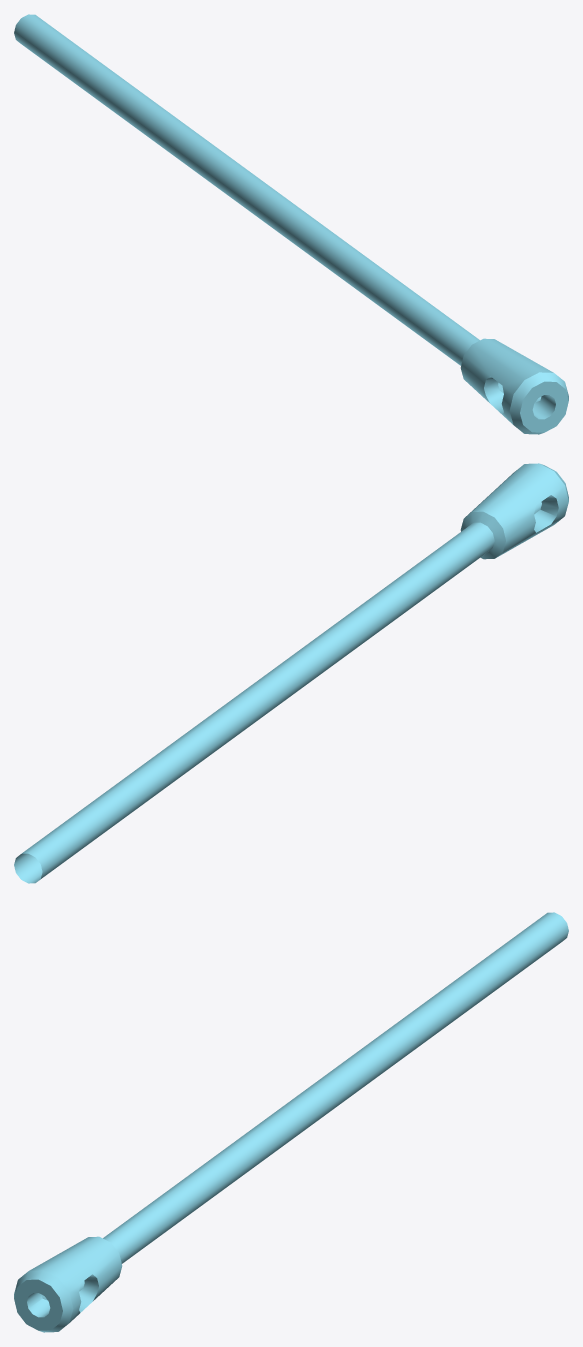
File: TurretCompensator.FBX
The picture shows the model from 3 angles, top to bottom: view 1: azimuth 30°, elevation 25°; view 2: azimuth 150°, elevation 25°; view 3: azimuth 330°, elevation 25°; orthographic projection.
Parts seen in each view (by area): view 1: Cylinder013; view 2: Cylinder013; view 3: Cylinder013.
Part boxes in pixels (x1=…): Cylinder013: x1=14, y1=14, x2=568, y2=434; Cylinder013: x1=14, y1=463, x2=568, y2=883; Cylinder013: x1=14, y1=912, x2=568, y2=1332.
Size of the model in its own units: 3.32 by 3.32 by 49.99.
